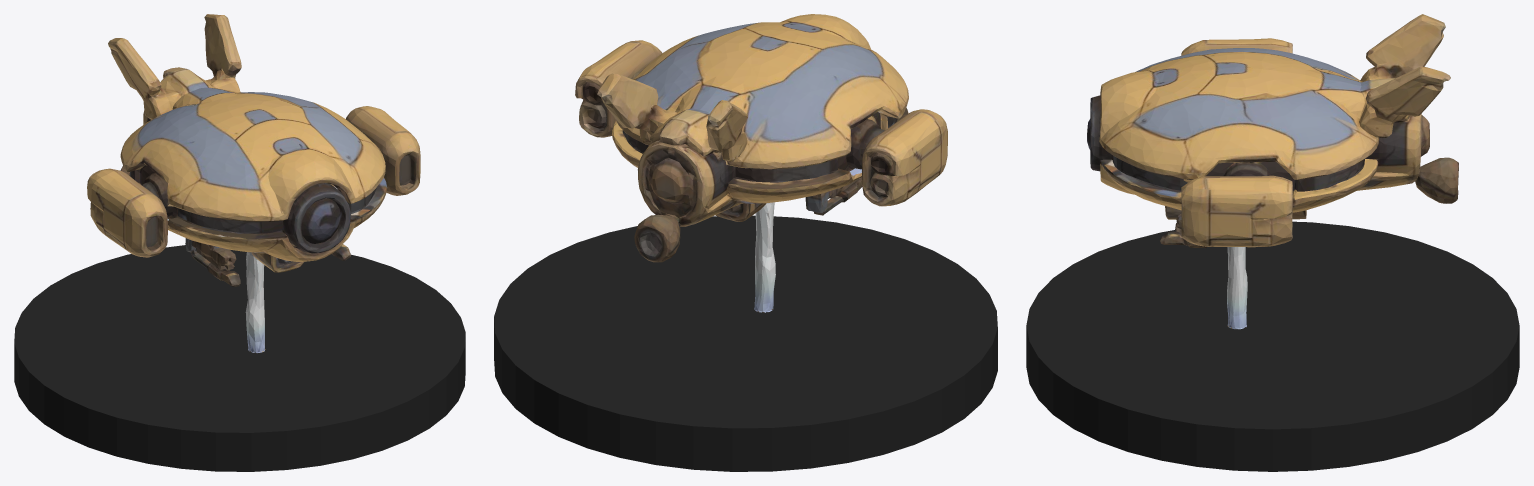
File: pf-mb3-recon-drone.glb
The picture shows the model from 3 angles, left to right: view 1: azimuth 30°, elevation 25°; view 2: azimuth 150°, elevation 25°; view 3: azimuth 270°, elevation 25°; orthographic projection. The views are drawn at different scales.
Parts seen in each view (by area): view 1: base, figure; view 2: base, figure; view 3: base, figure.
Boxes of the visible parts, x1=… form: base: x1=14, y1=245, x2=465, y2=471; figure: x1=87, y1=14, x2=420, y2=352; base: x1=494, y1=215, x2=997, y2=471; figure: x1=575, y1=14, x2=947, y2=312; base: x1=1026, y1=221, x2=1519, y2=471; figure: x1=1087, y1=14, x2=1458, y2=329.
Bounding box in the file's own units: 1.26 × 0.92 × 1.26.
Materials: 2 (1 with a texture image).
